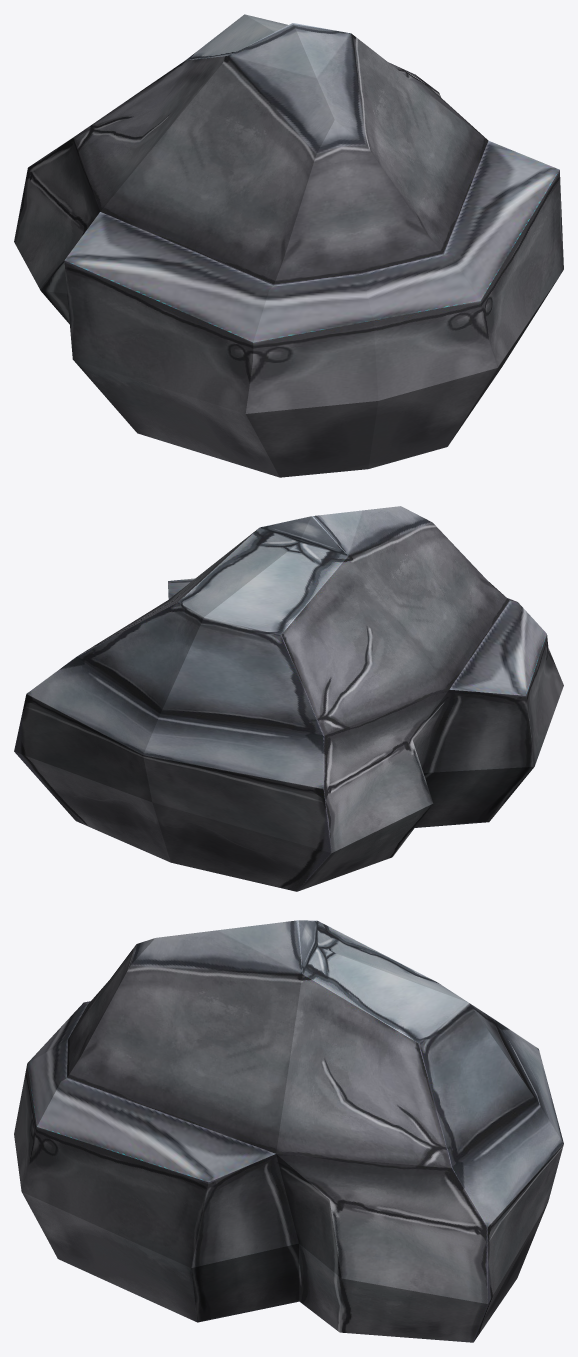
The model's file is Orc_Rock.FBX.
The picture shows the model from 3 angles, top to bottom: view 1: azimuth 30°, elevation 25°; view 2: azimuth 150°, elevation 25°; view 3: azimuth 270°, elevation 25°; orthographic projection. The views are drawn at different scales.
Parts seen in each view (by area): view 1: mine_stones004; view 2: mine_stones004; view 3: mine_stones004.
Boxes of the visible parts, x1=… form: mine_stones004: x1=14, y1=14, x2=563, y2=477; mine_stones004: x1=14, y1=506, x2=563, y2=891; mine_stones004: x1=14, y1=920, x2=563, y2=1342.
Size of the model in its own units: 1776 by 1172 by 1753.
